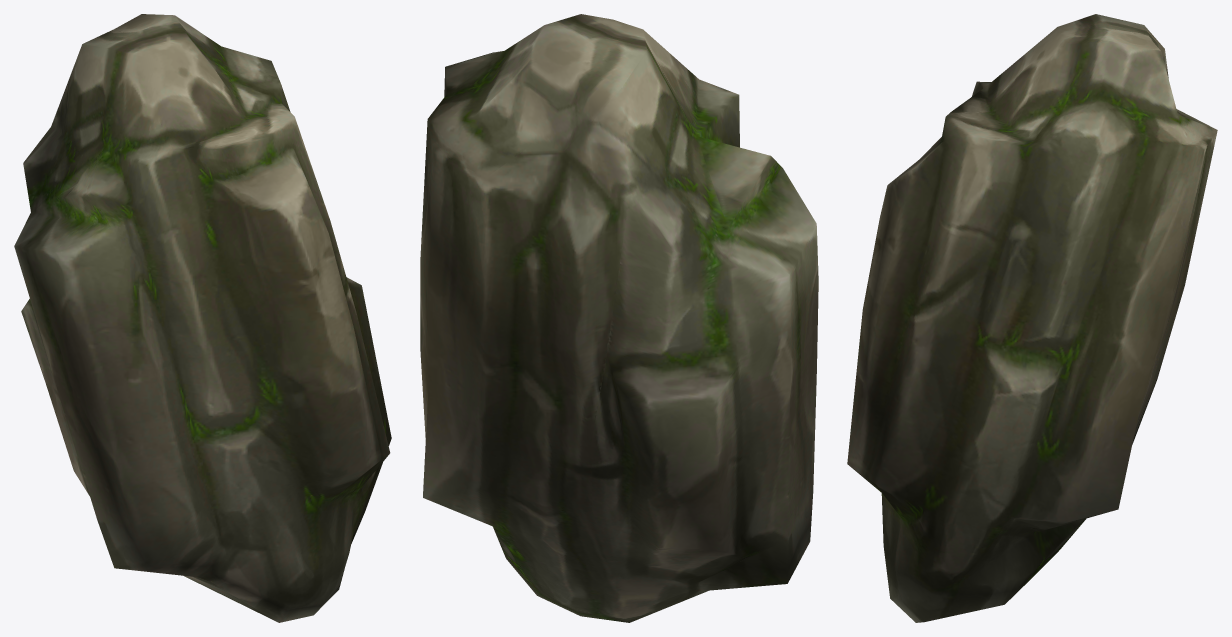
The model's file is RockFormation_4_2 (17).fbx.
The picture shows the model from 3 angles, left to right: view 1: azimuth 30°, elevation 25°; view 2: azimuth 150°, elevation 25°; view 3: azimuth 270°, elevation 25°; orthographic projection. The views are drawn at different scales.
Parts seen in each view (by area): view 1: RockFormation_4_2 (17); view 2: RockFormation_4_2 (17); view 3: RockFormation_4_2 (17).
Boxes of the visible parts, x1,y1,x2,y2 form: RockFormation_4_2 (17): (14,14,391,622); RockFormation_4_2 (17): (420,14,818,622); RockFormation_4_2 (17): (847,14,1217,622).
Bounding box in the file's own units: 44.88 × 73.75 × 44.33.
